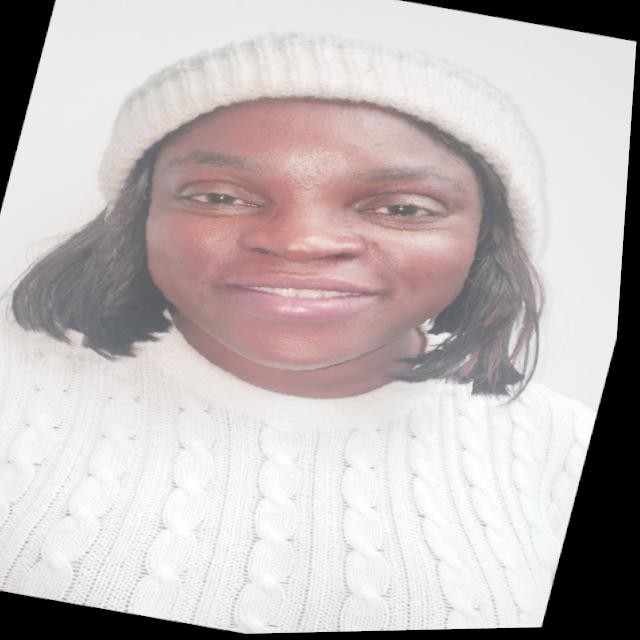happy: (63, 0, 555, 429)
